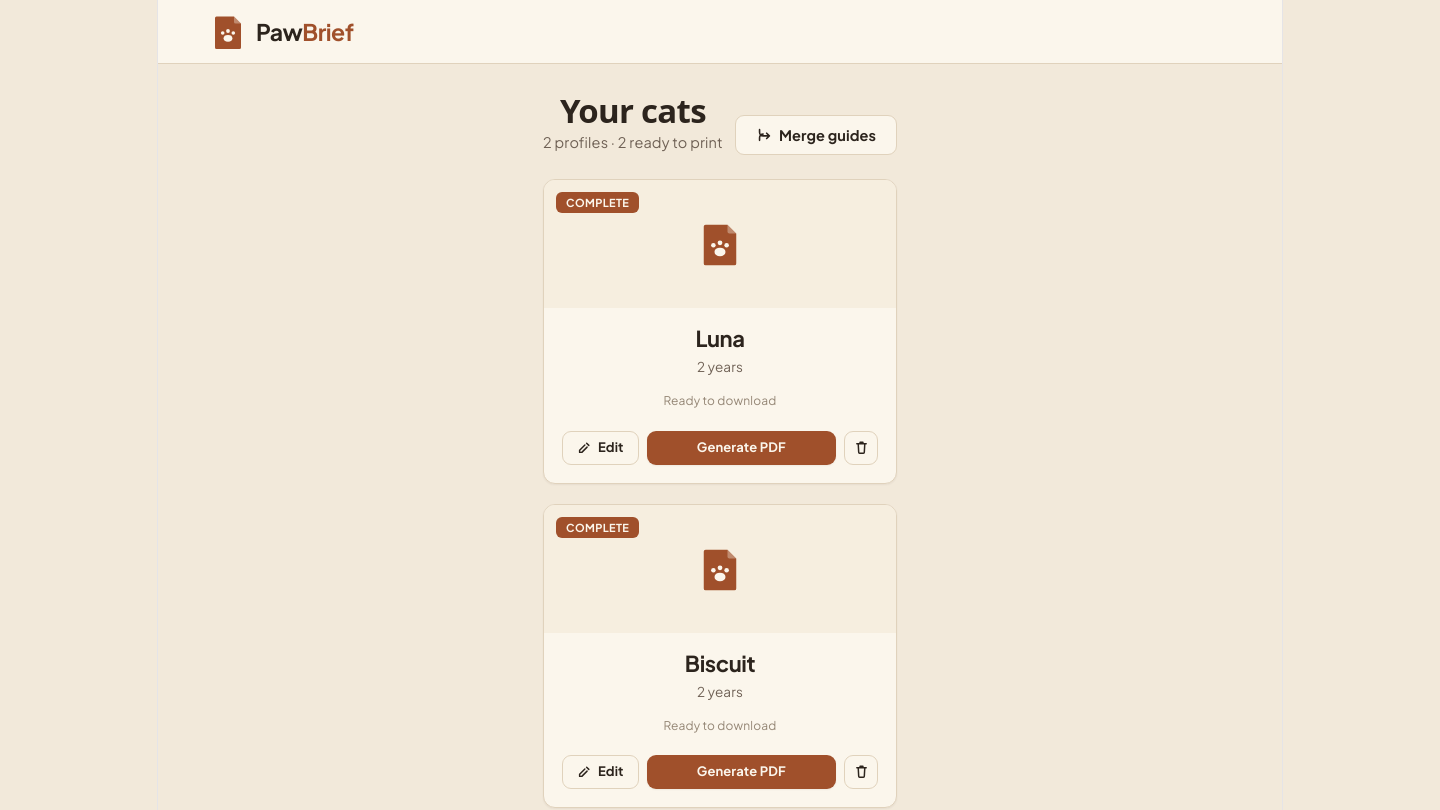
DashboardPage merge-select action bar › 'Create merged guide' CTA is enabled when exactly two profiles are selected
The image size is (1440, 810).
Click the button "Merge guides".
click(816, 135)  # box [735,115,897,155]
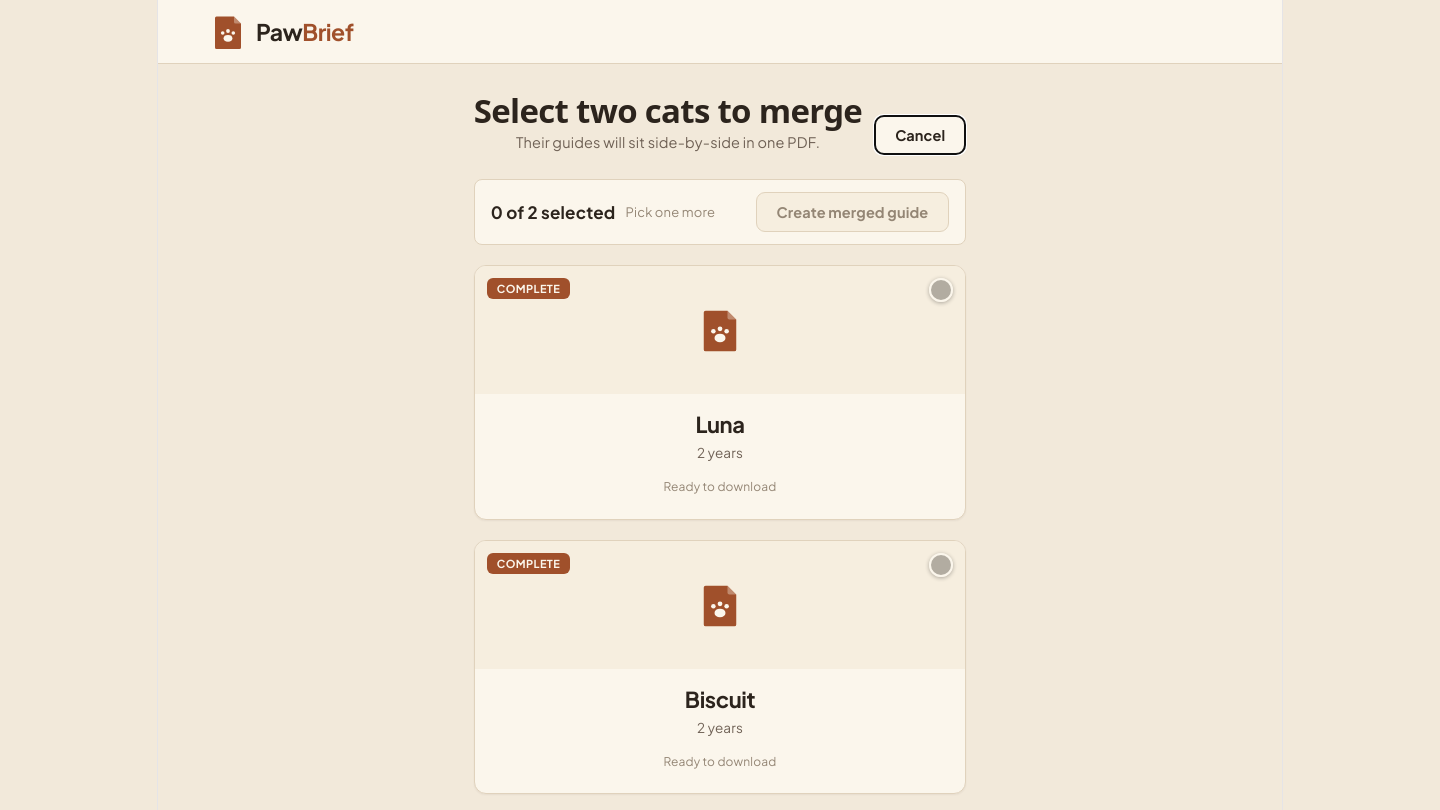
Click the checkbox named "Luna".
click(941, 290)  # box [929,278,953,302]
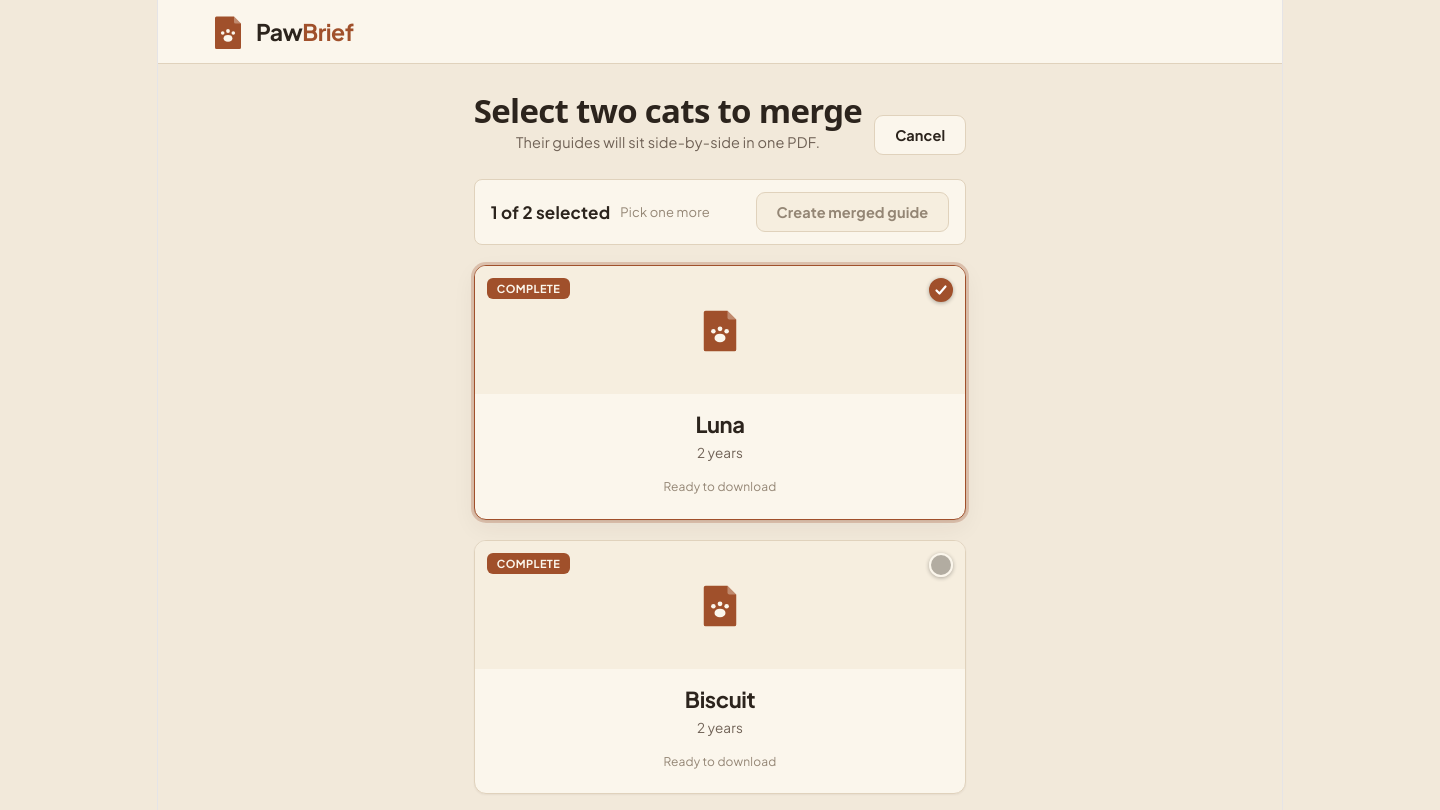
Click the checkbox named "Biscuit".
click(941, 565)  # box [929,553,953,577]
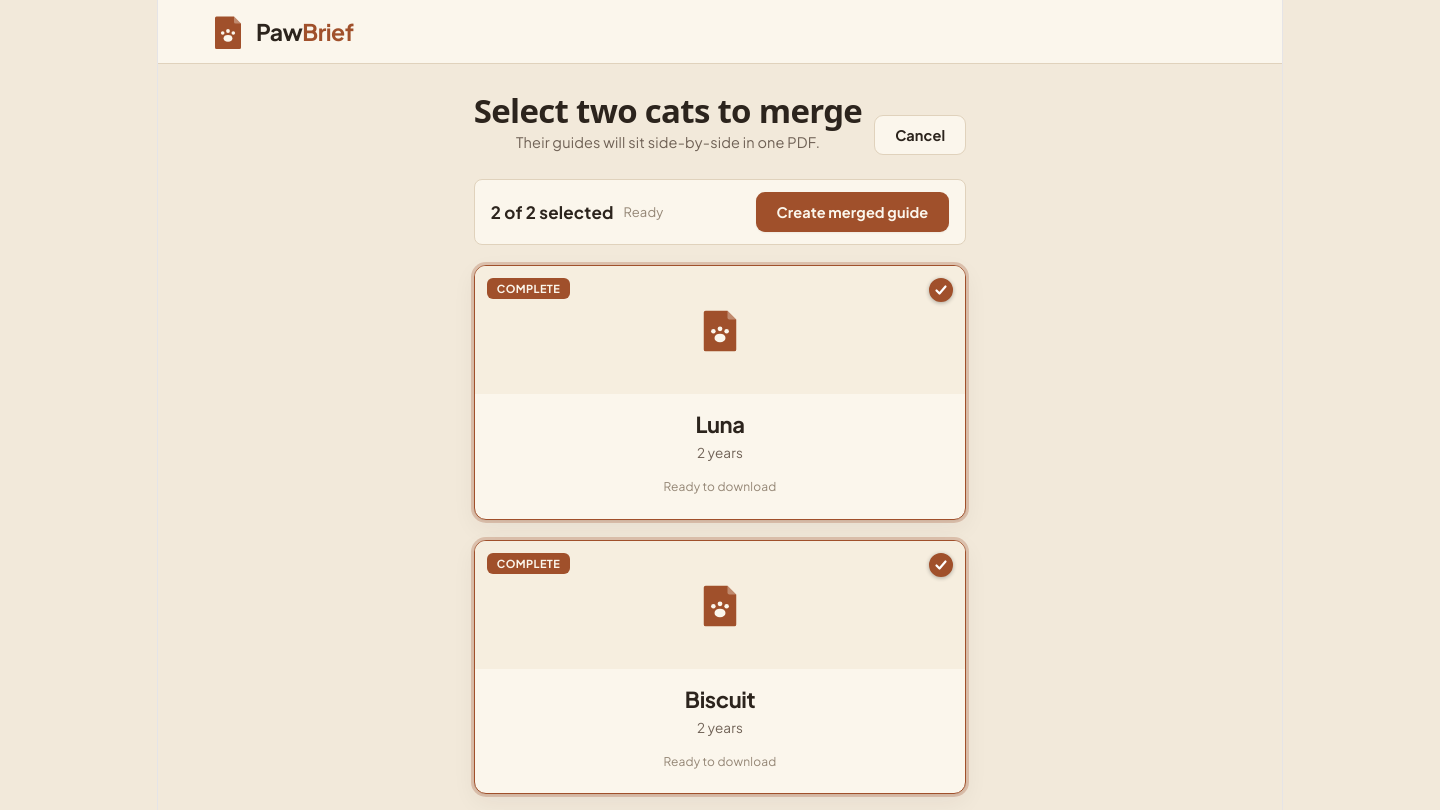
Expected: the text "2 of 2 selected" is shown, [491,199,614,225]
Expected: the button "Create merged guide" is enabled, [756,192,949,232]
